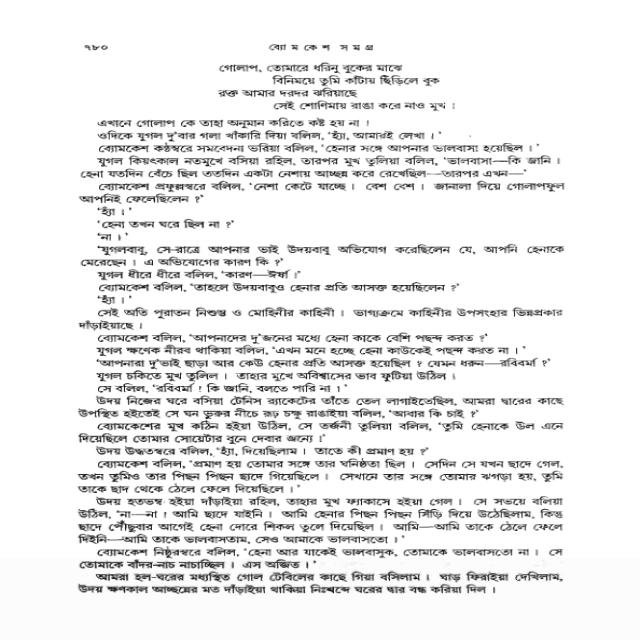page number: (80, 41, 113, 54)
paragraph: (79, 494, 565, 545), (82, 332, 558, 383), (83, 402, 563, 444), (77, 457, 561, 495), (83, 175, 560, 207), (93, 138, 542, 168), (82, 570, 563, 597), (84, 242, 563, 269), (86, 305, 559, 332), (208, 60, 448, 112), (84, 545, 561, 571), (73, 277, 493, 301), (99, 129, 432, 151), (87, 445, 442, 459), (94, 116, 396, 130), (82, 382, 381, 395), (92, 269, 301, 280), (92, 218, 236, 232), (93, 294, 129, 305), (95, 206, 129, 217), (94, 232, 126, 243)
text: (266, 40, 376, 54)
